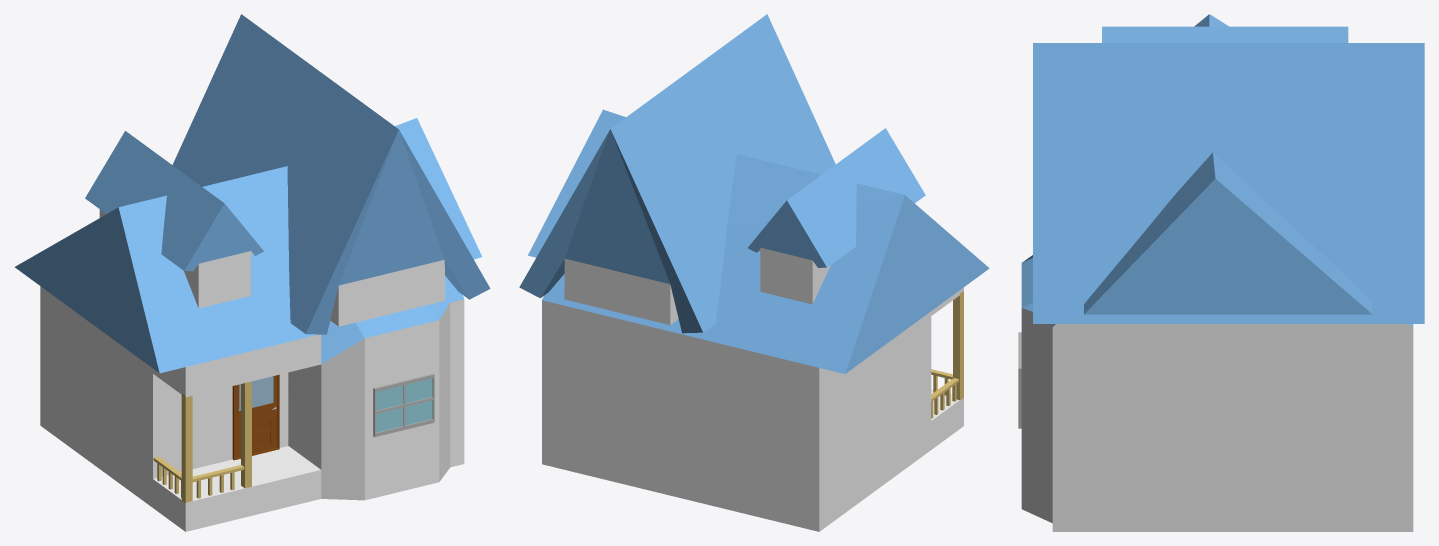
Rendered from blueHouse.gltf.
The picture shows the model from 3 angles, left to right: view 1: azimuth 30°, elevation 25°; view 2: azimuth 150°, elevation 25°; view 3: azimuth 270°, elevation 25°; orthographic projection. The views are drawn at different scales.
Parts seen in each view (by area): view 1: house1, house3, house2, Brown Door, 平面.002, 立方体; view 2: house1, house3, house2; view 3: house1, house3, house2.
Part boxes in pixels (bbox=[...]): house1: bbox=[14, 118, 482, 531]; house3: bbox=[172, 14, 490, 334]; house2: bbox=[85, 131, 263, 308]; Brown Door: bbox=[232, 374, 279, 460]; 平面.002: bbox=[376, 378, 432, 432]; 立方体: bbox=[373, 373, 434, 436]; house1: bbox=[528, 109, 989, 531]; house3: bbox=[519, 14, 835, 333]; house2: bbox=[748, 128, 925, 304]; house1: bbox=[1021, 14, 1413, 531]; house3: bbox=[1033, 43, 1424, 323]; house2: bbox=[1102, 26, 1348, 42].
Size of the model in its own units: 14.54 by 14.84 by 12.28.
